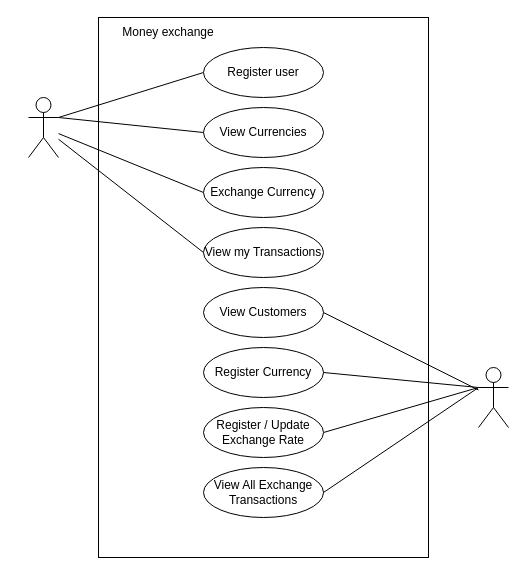
This 527x575 diagram has some shape labels left out. The centre of each missing label's shape, as x and y in pixels:
"Admin" goes at (x=493, y=397).
"Customer" goes at (x=43, y=127).
